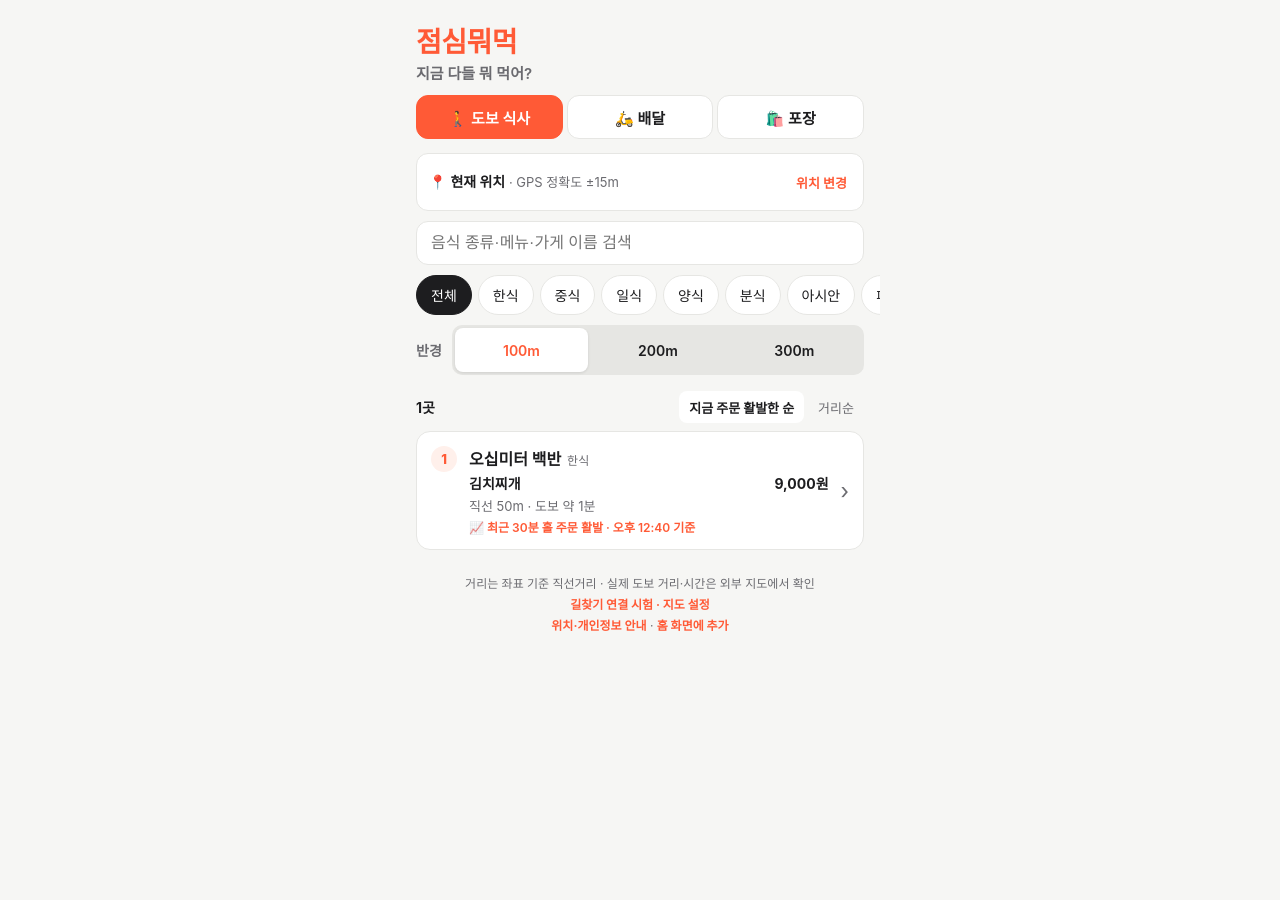
Scenario: 6단계 — 지금 주문 활발한 순 (서버 순위) › 60초마다 자동 새로고침: 화면이 보일 때만, 검색조건·정렬·열어 둔 상세화면 유지
Click the radio button labelled "200m" at [658, 350], box [591,328,725,372]
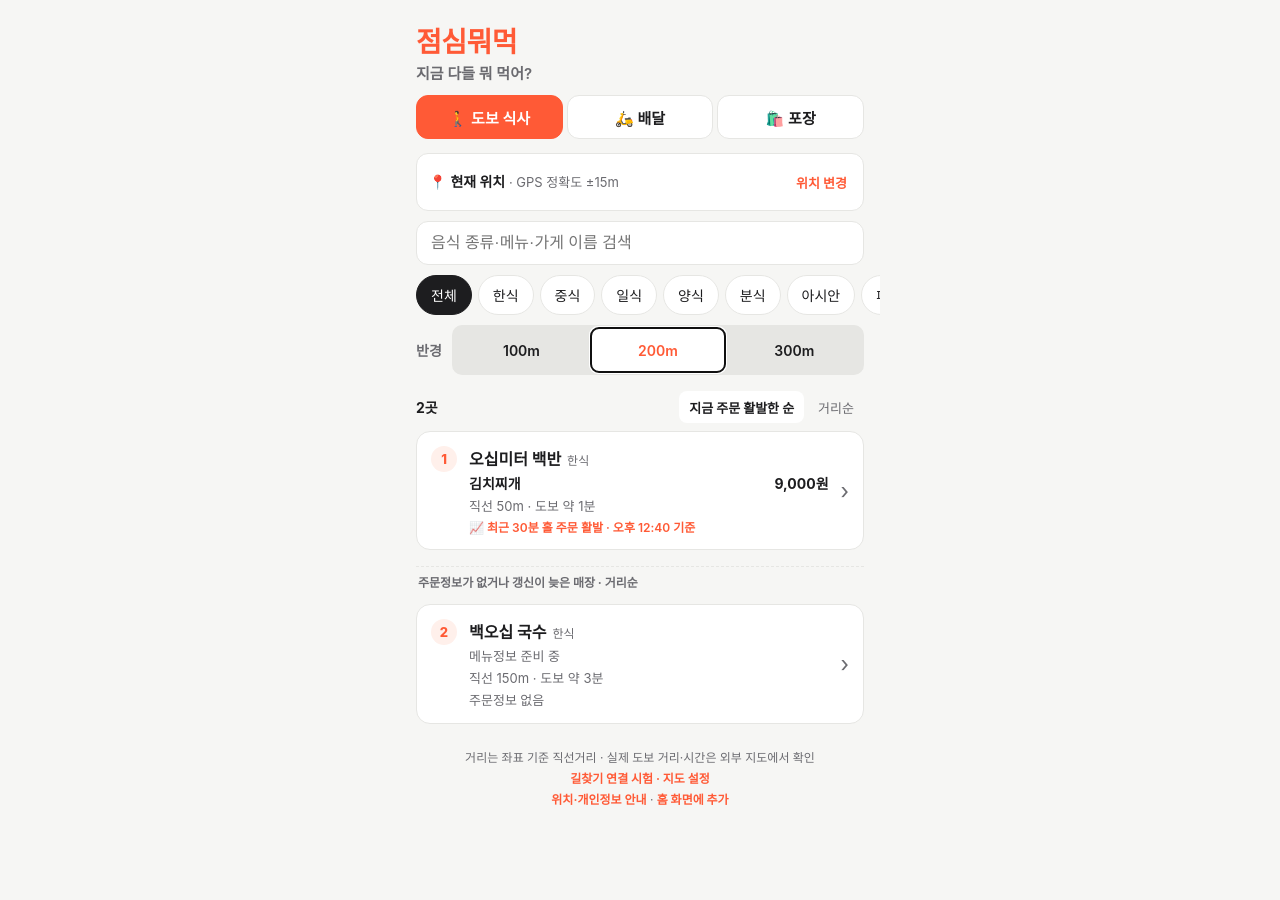
Click the radio button labelled "거리순" at [836, 407], box [808,391,864,423]
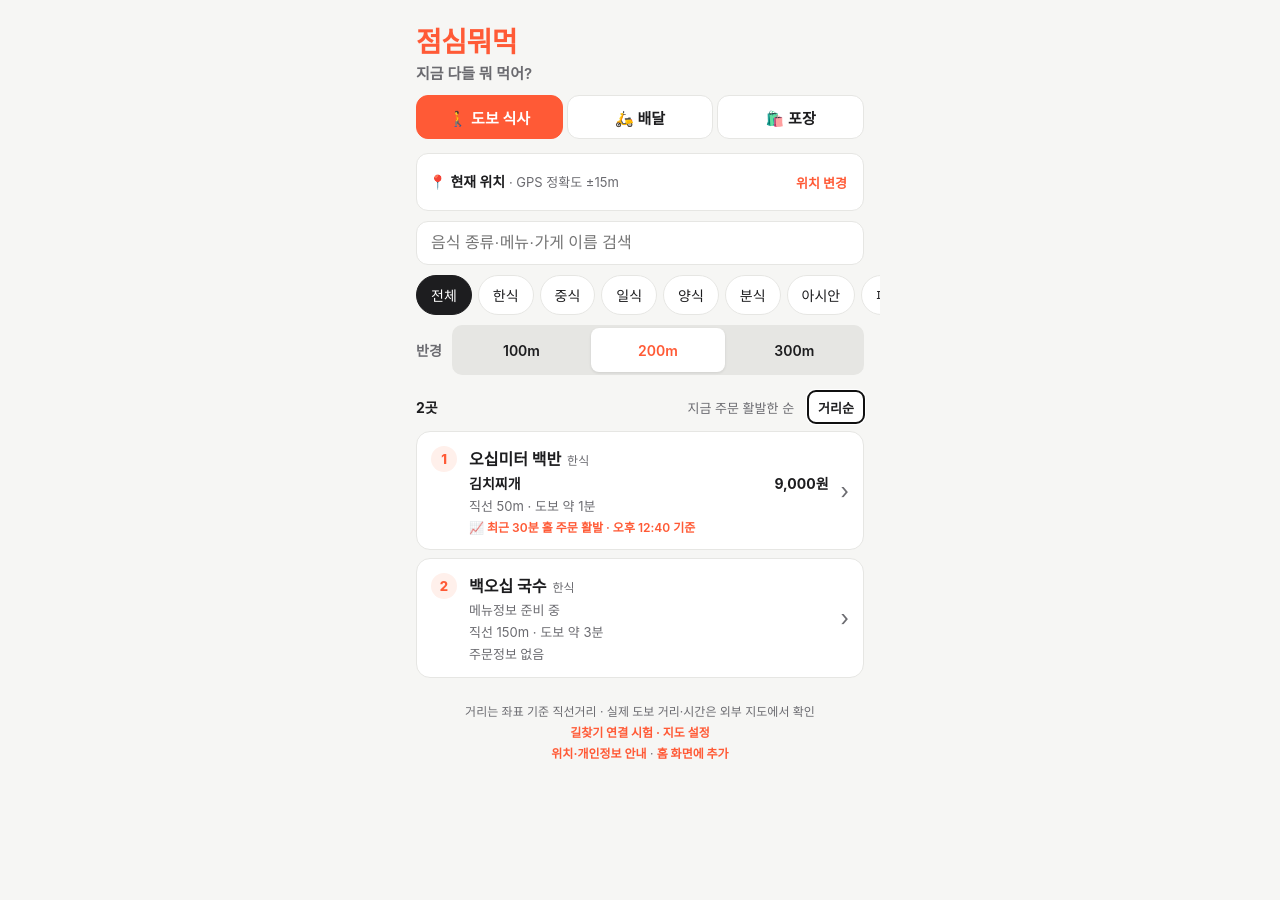
Click the button "오십미터 백반" at [515, 459], box [417,432,863,549]
Wait 240000 ms
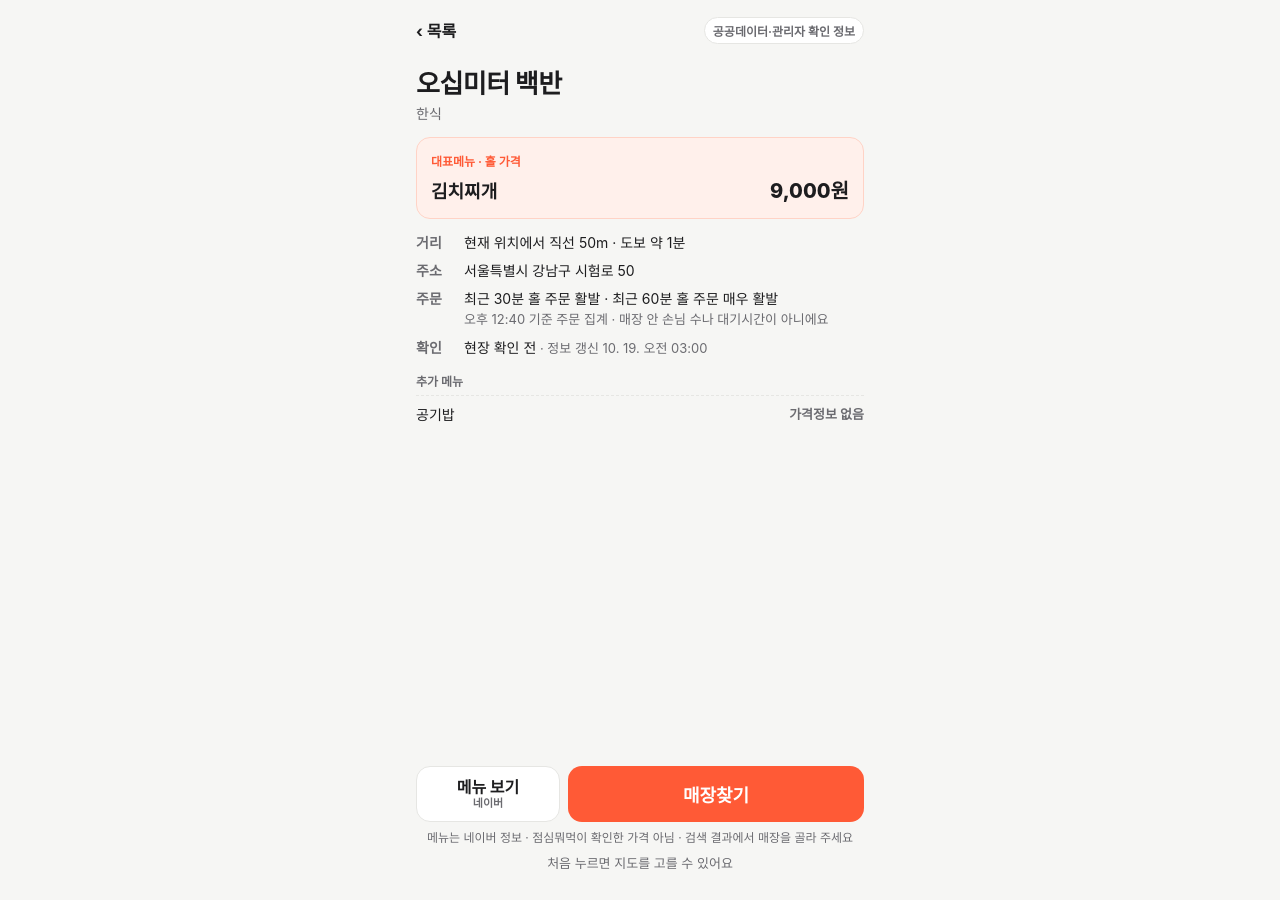
Check: the dialog named "오십미터 백반 상세정보" is shown
